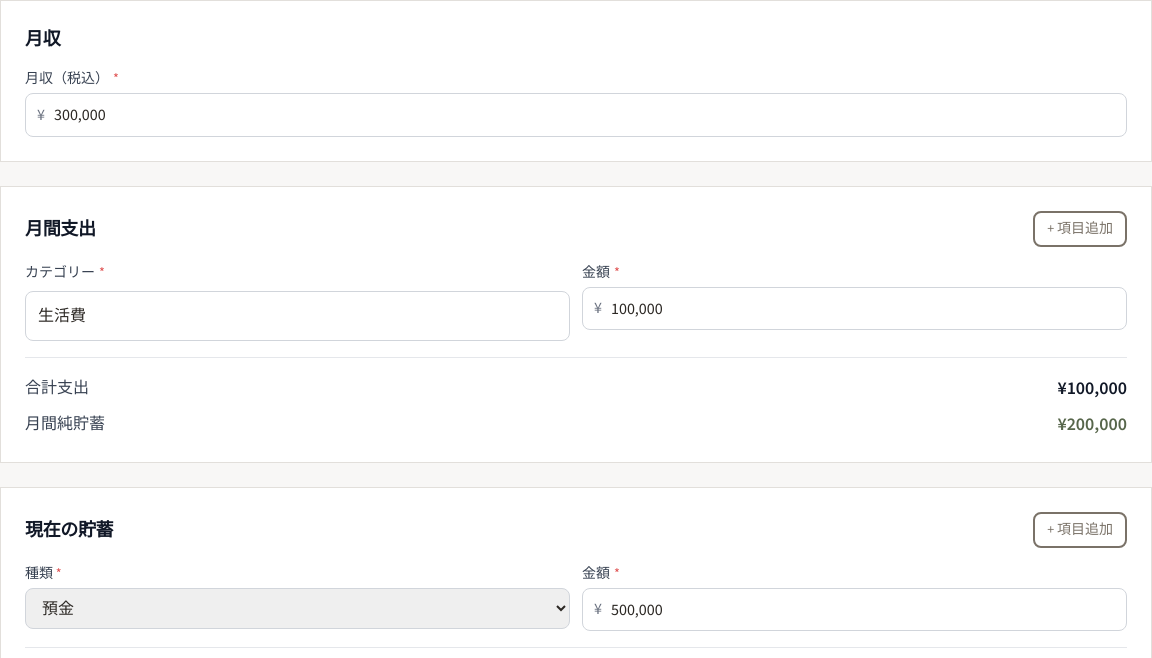
Scenario: FinancialInputForm › 動的項目追加 › 支出の項目追加ボタンをクリックするとフィールドが増える
Expected: the number of fields with placeholder "例: 住居費" is 1, [25,291,570,341]
Click the button "+ 項目追加" in the row of "月間支出": {"x": 1080, "y": 229} [1033,211,1127,247]
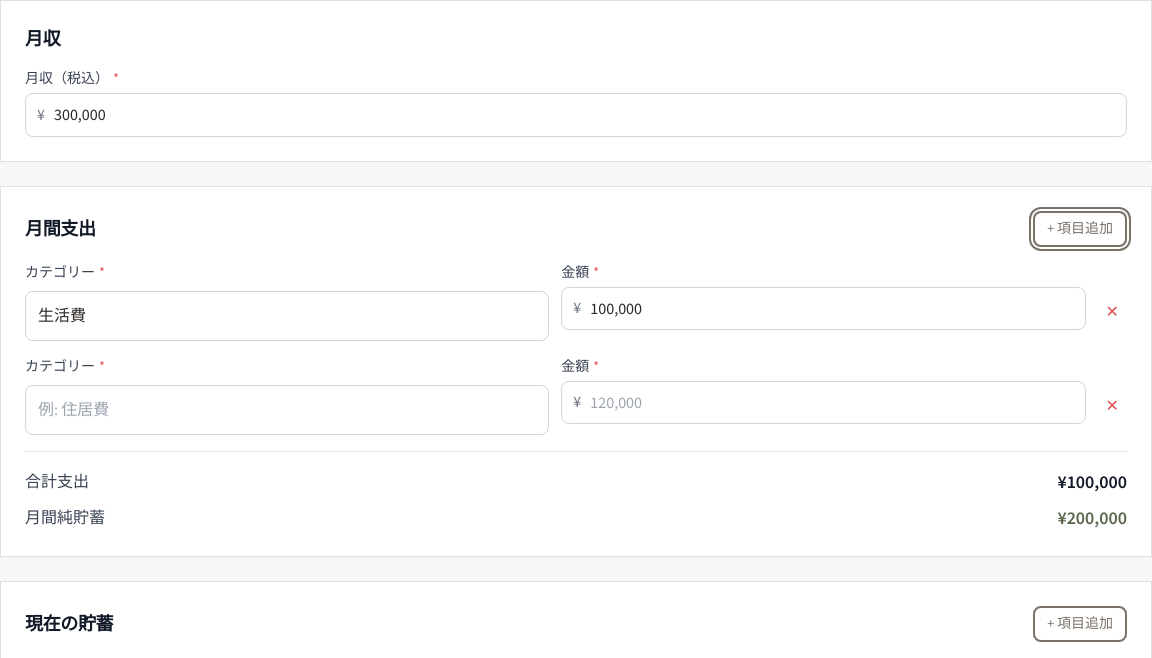
Result: the number of fields with placeholder "例: 住居費" is 2 at [25,291,549,341]; [25,385,549,435]
